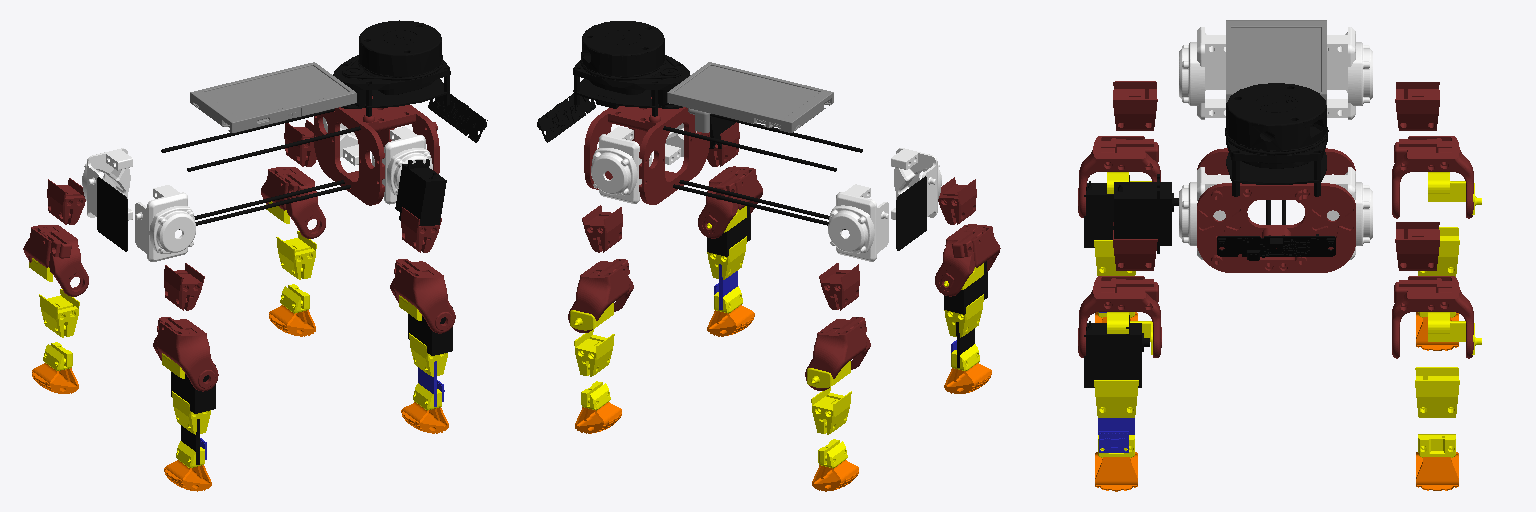
--- What the picture shows (computed from the rendered views, not written in the file) ---
The picture shows the robot from 3 angles, left to right: view 1: azimuth 30°, elevation 25°; view 2: azimuth 150°, elevation 25°; view 3: azimuth 270°, elevation 25°; orthographic projection.
Robot: spot — 36 links, 35 joints (12 revolute, 23 fixed); root link base_link; default pose: all joints at 0.
Links seen in each view (by area): view 1: rpi_lidar, m5paper, front_bracket, back_right_upper_leg, back_left_upper_leg, front_right_upper_leg, back_right_hip, front_left_upper_leg, cfr_core, front_right_upper_servo, back_left_lower_leg, front_left_lower_leg (+13 smaller); view 2: rpi_lidar, m5paper, front_bracket, back_right_upper_leg, back_left_upper_leg, front_left_upper_leg, back_left_hip, front_right_upper_leg, front_left_hip, back_left_lower_leg, front_left_lower_leg, cfr_core (+12 smaller); view 3: front_bracket, rpi_lidar, m5paper, back_left_upper_leg, front_left_upper_leg, back_right_upper_leg, front_right_upper_leg, front_left_lower_leg, front_right_upper_servo, back_right_hip, back_left_hip, front_right_foot_servo (+11 smaller).
Boxes of the visible links, x1=… form: rpi_lidar: x1=333, y1=20, x2=450, y2=116; m5paper: x1=190, y1=62, x2=356, y2=132; front_bracket: x1=314, y1=96, x2=439, y2=205; back_right_upper_leg: x1=153, y1=263, x2=218, y2=391; back_left_upper_leg: x1=23, y1=178, x2=88, y2=296; front_right_upper_leg: x1=390, y1=207, x2=455, y2=333; back_right_hip: x1=135, y1=185, x2=195, y2=261; front_left_upper_leg: x1=261, y1=120, x2=325, y2=238; cfr_core: x1=161, y1=109, x2=360, y2=229; front_right_upper_servo: x1=395, y1=159, x2=446, y2=225; back_left_lower_leg: x1=29, y1=258, x2=79, y2=370; front_left_lower_leg: x1=266, y1=201, x2=316, y2=313; rpi_lidar: x1=573, y1=21, x2=689, y2=116; m5paper: x1=667, y1=62, x2=833, y2=132; front_bracket: x1=584, y1=97, x2=709, y2=204; back_right_upper_leg: x1=935, y1=177, x2=1000, y2=296; back_left_upper_leg: x1=805, y1=263, x2=870, y2=390; front_left_upper_leg: x1=568, y1=205, x2=633, y2=332; back_left_hip: x1=828, y1=184, x2=888, y2=261; front_right_upper_leg: x1=698, y1=122, x2=762, y2=238; front_left_hip: x1=591, y1=126, x2=651, y2=203; back_left_lower_leg: x1=807, y1=361, x2=851, y2=468; front_left_lower_leg: x1=570, y1=303, x2=614, y2=410; cfr_core: x1=663, y1=114, x2=862, y2=229; front_bracket: x1=1197, y1=148, x2=1355, y2=272; rpi_lidar: x1=1225, y1=83, x2=1328, y2=196; m5paper: x1=1226, y1=20, x2=1326, y2=104; back_left_upper_leg: x1=1392, y1=82, x2=1473, y2=218; front_left_upper_leg: x1=1392, y1=222, x2=1473, y2=358; back_right_upper_leg: x1=1078, y1=81, x2=1160, y2=217; front_right_upper_leg: x1=1078, y1=222, x2=1161, y2=357; front_left_lower_leg: x1=1415, y1=312, x2=1481, y2=457; front_right_upper_servo: x1=1114, y1=174, x2=1178, y2=253; back_right_hip: x1=1179, y1=27, x2=1225, y2=119; back_left_hip: x1=1327, y1=27, x2=1372, y2=119; front_right_foot_servo: x1=1084, y1=315, x2=1149, y2=387.
Bounding box of the posed robot: 0.352 × 0.2785 × 0.3074 m (x, y, z).
Meshes: 25 distinct files referenced, 29 mesh visuals loaded (18 binary STL); not drawn: 7 (reference not matched to a file when rendering).

The robot description file, URDF, robot "spot":
<?xml version="1.0" encoding="utf-8"?>
<!-- =================================================================================== -->
<!-- |    This document was autogenerated by xacro from spot.urdf.xacro                | -->
<!-- |    EDITING THIS FILE BY HAND IS NOT RECOMMENDED                                 | -->
<!-- =================================================================================== -->
<robot name="spot" xmlns:xacro="http://www.ros.org/wiki/xacro">
  <material name="maroon">
    <color rgba="0.5 0.2 0.2 1"/>
  </material>
  <material name="lblue">
    <color rgba="0.1 0.1 0.8 0.9"/>
  </material>
  <material name="orange">
    <color rgba="1.0 0.5 0.0 1"/>
  </material>
  <material name="black">
    <color rgba="0.1 0.1 0.1 1"/>
  </material>
  <material name="grey">
    <color rgba="0.6 0.6 0.6 1"/>
  </material>
  <material name="white">
    <color rgba="1.0 1.0 1.0 1"/>
  </material>
  <material name="yellow">
    <color rgba="1.0 1.0 0.0 1"/>
  </material>
  <material name="cgray">
    <color rgba="0.6 0.6 0.6 0.5"/>
  </material>
  <material name="blue">
    <color rgba="0.2 0.2 0.8 1"/>
  </material>
  <material name="green">
    <color rgba="0.2 0.8 0.2 1"/>
  </material>
  <!-- Left Leg: prefix is front or rear -->
  <!--   <xacro:macro name="LeftLeg" params="prefix reflect">
    <link name="${prefix}_Left_Leg">
        <visual>
            <geometry>
                <box size="${leglen} 0.1 0.2"/>
            </geometry>
            <origin xyz="0 0 -${leglen/2}" rpy="0 ${pi/2} 0"/>
            <material name="white"/>
        </visual>
        <collision>
            <geometry>
                <box size="${leglen} 0.1 0.2"/>
            </geometry>
            <origin xyz="0 0 -${leglen/2}" rpy="0 ${pi/2} 0"/>
        </collision>
        <xacro:default_inertial mass="10"/>
    </link>

    <joint name="base_to_${prefix}_leg" type="fixed">
        <parent link="base_link"/>
        <child link="${prefix}_leg"/>
        <origin xyz="0 ${reflect*(width+.02)} 0.25" />
    </joint>
</xacro:macro> -->
  <!-- Robot description -->
  <!-- STATIC Links -->
  <link name="base_link">
    <visual>
      <origin rpy="0 0 1.57079632679" xyz="-0.16 0.035 -0.045"/>
      <geometry>
        <mesh filename="package://mini_ros/stl/OpenQuadruped/MAINBODY.stl" scale="1 1 1"/>
      </geometry>
      <material name="maroon"/>
    </visual>
    <collision>
      <origin rpy="0 0 1.57079632679" xyz="0 0 0"/>
      <geometry>
        <box size="0.114 0.2 0.1"/>
      </geometry>
    </collision>
    <inertial>
      <mass value="0.6"/>
      <origin rpy="0 0 0" xyz="0 0 0"/>
      <!-- Inertial Axes -->
      <inertia ixx="0.0025" ixy="0" ixz="0" iyx="0" iyy="0.0011498" iyz="0" izx="0" izy="0" izz="0.0026498"/>
    </inertial>
  </link>
  <!-- m to mm -->
  <link name="battery">
    <visual>
      <origin rpy="0 0 1.57079632679" xyz="-0.15 0.035 -0.022"/>
      <geometry>
        <mesh filename="package://mini_ros/stl/OpenQuadruped/Battery.stl" scale="1 1 1"/>
      </geometry>
      <material name="lblue"/>
    </visual>
    <collision>
      <origin rpy="0 0 1.57079632679" xyz="0 0 0"/>
      <geometry>
        <box size="0.048 0.145 0.026"/>
      </geometry>
    </collision>
    <inertial>
      <mass value="0.4"/>
      <origin rpy="0 0 0" xyz="0 0 0"/>
      <!-- Inertial Axes -->
      <inertia ixx="0.000723366666667" ixy="0" ixz="0" iyx="0" iyy="9.93333333333e-05" iyz="0" izx="0" izy="0" izz="0.000777633333333"/>
    </inertial>
  </link>

  
  <!-- m to mm -->
  <link name="cfr_core">
    <visual>
      <origin rpy="0 0 1.57079632679" xyz="-0.15 0.035 -0.022"/>
      <geometry>
        <mesh filename="package://mini_ros/stl/OpenQuadruped/cfr_core.stl" scale="1 1 1"/>
      </geometry>
      <material name="black"/>
    </visual>
    <collision>
      <origin rpy="0 0 1.57079632679" xyz="0 0 0"/>
      <geometry>
        <box size="0.048 0.145 0.026"/>
      </geometry>
    </collision>
    <inertial>
      <mass value="0.1"/>
      <origin rpy="0 0 0" xyz="0 0 0"/>
      <!-- Inertial Axes -->
      <inertia ixx="0.000723366666667" ixy="0" ixz="0" iyx="0" iyy="9.93333333333e-05" iyz="0" izx="0" izy="0" izz="0.000777633333333"/>
    </inertial>
  </link>
<!-- m to mm -->
  <link name="m5paper">
    <visual>
      <origin rpy="0 0 1.57079632679" xyz="-0.15 0.035 -0.022"/>
      <geometry>
        <mesh filename="package://mini_ros/stl/OpenQuadruped/m5paper.stl" scale="1 1 1"/>
      </geometry>
      <material name="grey"/>
    </visual>
    <collision>
      <origin rpy="0 0 1.57079632679" xyz="0 0 0"/>
      <geometry>
        <box size="0.048 0.145 0.026"/>
      </geometry>
    </collision>
    <inertial>
      <mass value="0.1"/>
      <origin rpy="0 0 0" xyz="0 0 0"/>
      <!-- Inertial Axes -->
      <inertia ixx="0.000723366666667" ixy="0" ixz="0" iyx="0" iyy="9.93333333333e-05" iyz="0" izx="0" izy="0" izz="0.000777633333333"/>
    </inertial>
  </link>
  <!-- m to mm -->
  <link name="rpi_lidar">
    <visual>
      <origin rpy="0 0 1.57079632679" xyz="-0.15 0.035 -0.022"/>
      <geometry>
        <mesh filename="package://mini_ros/stl/OpenQuadruped/lidar.stl" scale="1 1 1"/>
      </geometry>
      <material name="black"/>
    </visual>
    <collision>
      <origin rpy="0 0 1.57079632679" xyz="0 0 0"/>
      <geometry>
        <box size="0.048 0.145 0.026"/>
      </geometry>
    </collision>
    <inertial>
      <mass value="0.1"/>
      <origin rpy="0 0 0" xyz="0 0 0"/>
      <!-- Inertial Axes -->
      <inertia ixx="0.000723366666667" ixy="0" ixz="0" iyx="0" iyy="9.93333333333e-05" iyz="0" izx="0" izy="0" izz="0.000777633333333"/>
    </inertial>
  </link>

    <!-- m to mm -->
  <link name="rpi_5">
    <visual>
      <origin rpy="0 0 1.57079632679" xyz="-0.15 0.035 -0.022"/>
      <geometry>
        <mesh filename="package://mini_ros/stl/OpenQuadruped/RPI5.stl" scale="1 1 1"/>
      </geometry>
      <material name="green"/>
    </visual>
    <collision>
      <origin rpy="0 0 1.57079632679" xyz="0 0 0"/>
      <geometry>
        <box size="0.048 0.145 0.026"/>
      </geometry>
    </collision>
    <inertial>
      <mass value="0.1"/>
      <origin rpy="0 0 0" xyz="0 0 0"/>
      <!-- Inertial Axes -->
      <inertia ixx="0.000723366666667" ixy="0" ixz="0" iyx="0" iyy="9.93333333333e-05" iyz="0" izx="0" izy="0" izz="0.000777633333333"/>
    </inertial>
  </link>

    <!-- m to mm -->
  <link name="oak_d_lite">
    <visual>
      <origin rpy="0 0 1.57079632679" xyz="-0.15 0.035 -0.022"/>
      <geometry>
        <mesh filename="package://mini_ros/stl/OpenQuadruped/OAKD_LITE.stl" scale="1 1 1"/>
      </geometry>
      <material name="black"/>
    </visual>
    <collision>
      <origin rpy="0 0 1.57079632679" xyz="0 0 0"/>
      <geometry>
        <box size="0.048 0.145 0.026"/>
      </geometry>
    </collision>
    <inertial>
      <mass value="0.1"/>
      <origin rpy="0 0 0" xyz="0 0 0"/>
      <!-- Inertial Axes -->
      <inertia ixx="0.000723366666667" ixy="0" ixz="0" iyx="0" iyy="9.93333333333e-05" iyz="0" izx="0" izy="0" izz="0.000777633333333"/>
    </inertial>
  </link>

  <!-- m to mm -->
  <link name="chassis_left">
    <visual>
      <origin rpy="0 1.57079632679 -1.57079632679" xyz="0.016 0.003 0"/>
      <geometry>
        <mesh filename="package://mini_ros/stl/OpenQuadruped/Chassis_Left_Side.stl" scale="1 1 1"/>
      </geometry>
      <material name="cgray"/>
    </visual>
    <collision>
      <origin rpy="0 1.57079632679 -1.57079632679" xyz="0 0 0"/>
      <geometry>
        <box size="0.06 0.15 0.006"/>
      </geometry>
    </collision>
    <inertial>
      <mass value="0.01"/>
      <origin rpy="0 0 0" xyz="0 0 0"/>
      <!-- Inertial Axes -->
      <inertia ixx="1.878e-05" ixy="0" ixz="0" iyx="0" iyy="3.03e-06" iyz="0" izx="0" izy="0" izz="2.175e-05"/>
    </inertial>
  </link>
  <!-- m to mm -->
  <link name="chassis_right">
    <visual>
      <origin rpy="0 1.57079632679 1.57079632679" xyz="-0.016 -0.003 0"/>
      <geometry>
        <mesh filename="package://mini_ros/stl/OpenQuadruped/Chassis_Right_Side.stl" scale="1 1 1"/>
      </geometry>
      <material name="cgray"/>
    </visual>
    <collision>
      <origin rpy="0 1.57079632679 1.57079632679" xyz="0 0 0"/>
      <geometry>
        <box size="0.06 0.15 0.006"/>
      </geometry>
    </collision>
    <inertial>
      <mass value="0.01"/>
      <origin rpy="0 0 0" xyz="0 0 0"/>
      <!-- Inertial Axes -->
      <inertia ixx="1.878e-05" ixy="0" ixz="0" iyx="0" iyy="3.03e-06" iyz="0" izx="0" izy="0" izz="2.175e-05"/>
    </inertial>
  </link>
  <!-- m to mm -->
  <link name="front">
    <visual>
      <origin rpy="0 0 1.57079632679" xyz="-0.16 0.035 -0.045"/>
      <geometry>
        <mesh filename="package://mini_ros/stl/OpenQuadruped/Front.stl" scale="1 1 1"/>
      </geometry>
      <material name="maroon"/>
    </visual>
    <collision>
      <origin rpy="0 0 1.57079632679" xyz="0.16 0 0.006"/>
      <geometry>
        <box size="0.114 0.045 0.085"/>
      </geometry>
    </collision>
    <inertial>
      <mass value="0.1"/>
      <origin rpy="0 0 0" xyz="0 0 0"/>
      <!-- Inertial Axes -->
      <inertia ixx="7.70833333333e-05" ixy="0" ixz="0" iyx="0" iyy="0.000168508333333" iyz="0" izx="0" izy="0" izz="0.000125175"/>
    </inertial>
  </link>
  <!-- m to mm -->
  <link name="back">
    <visual>
      <origin rpy="0 0 1.57079632679" xyz="-0.16 0.035 -0.045"/>
      <geometry>
        <mesh filename="package://mini_ros/stl/OpenQuadruped/m5fire_black.stl" scale="1 1 1"/>
      </geometry>
      <material name="black"/>
    </visual>
    <collision>
      <origin rpy="0 0 1.57079632679" xyz="-0.16 0 0.006"/>
      <geometry>
        <box size="0.114 0.075 0.085"/>
      </geometry>
    </collision>
    <inertial>
      <mass value="0.1"/>
      <origin rpy="0 0 0" xyz="0 0 0"/>
      <!-- Inertial Axes -->
      <inertia ixx="0.000107083333333" ixy="0" ixz="0" iyx="0" iyy="0.000168508333333" iyz="0" izx="0" izy="0" izz="0.000155175"/>
    </inertial>
  </link>
  <!-- m to mm -->
  <link name="front_bracket">
    <visual>
      <origin rpy="0 0 1.57079632679" xyz="-0.16 0.035 -0.045"/>
      <geometry>
        <mesh filename="package://mini_ros/stl/OpenQuadruped/Front_Bracket.stl" scale="1 1 1"/>
      </geometry>
      <material name="maroon"/>
    </visual>
    <collision>
      <origin rpy="0 0 1.57079632679" xyz="0.1 0 0"/>
      <geometry>
        <box size="0.025 0.075 0.085"/>
      </geometry>
    </collision>
    <inertial>
      <mass value="0.1"/>
      <origin rpy="0 0 0" xyz="0 0 0"/>
      <!-- Inertial Axes -->
      <inertia ixx="0.000107083333333" ixy="0" ixz="0" iyx="0" iyy="6.54166666667e-05" iyz="0" izx="0" izy="0" izz="5.20833333333e-05"/>
    </inertial>
  </link>
  <!-- m to mm -->
  <link name="back_bracket">
    <visual>
      <origin rpy="0 0 1.57079632679" xyz="-0.16 0.035 -0.045"/>
      <geometry>
        <mesh filename="package://mini_ros/stl/OpenQuadruped/Back_Bracket.stl" scale="1 1 1"/>
      </geometry>
      <material name="maroon"/>
    </visual>
    <collision>
      <origin rpy="0 0 1.57079632679" xyz="-0.1 0 0"/>
      <geometry>
        <box size="0.025 0.075 0.085"/>
      </geometry>
    </collision>
    <inertial>
      <mass value="0.1"/>
      <origin rpy="0 0 0" xyz="0 0 0"/>
      <!-- Inertial Axes -->
      <inertia ixx="0.000107083333333" ixy="0" ixz="0" iyx="0" iyy="6.54166666667e-05" iyz="0" izx="0" izy="0" izz="5.20833333333e-05"/>
    </inertial>
  </link>
  <!-- m to mm -->
  <link name="front_left_hip">
    <visual>
      <origin rpy="0 0 1.57079632679" xyz="-0.25 -0.0044 -0.067"/>
      <geometry>
        <mesh filename="package://mini_ros/stl/OpenQuadruped/LEFT_HIP.stl" scale="1 1 1"/>
      </geometry>
      <material name="white"/>
    </visual>
    <collision>
      <origin rpy="0 0 1.57079632679" xyz="0.015 0.01 -0.01"/>
      <geometry>
        <box size="0.05 0.065 0.065"/>
      </geometry>
    </collision>
    <inertial>
      <mass value="0.2"/>
      <origin rpy="0 0 0" xyz="0 0 0"/>
      <!-- Inertial Axes -->
      <inertia ixx="0.000140833333333" ixy="0" ixz="0" iyx="0" iyy="0.000112083333333" iyz="0" izx="0" izy="0" izz="0.000112083333333"/>
    </inertial>
  </link>
  <joint name="motor_front_left_hip" type="revolute">
    <axis xyz="1 0 0"/>
    <origin rpy="0 0 0" xyz="0.0915 0.0394 0.022"/>
    <parent link="front_bracket"/>
    <child link="front_left_hip"/>
    <limit effort="1000.0" lower="-1.04" upper="1.04" velocity="0.7"/>
    <joint_properties damping="0.0" friction="0.0"/>
  </joint>
  <link name="front_left_upper_leg">
    <visual>
      <origin rpy="0 0 1.57079632679" xyz="-0.252 -0.05 -0.055"/>
      <geometry>
        <mesh filename="package://mini_ros/stl/OpenQuadruped/LEFT_UPPER_LEG.stl" scale="1 1 1"/>
      </geometry>
      <material name="maroon"/>
    </visual>
    <collision>
      <origin rpy="0 0 1.57079632679" xyz="0 0.02 -0.05"/>
      <geometry>
        <box size="0.035 0.035 0.11"/>
      </geometry>
    </collision>
    <inertial>
      <mass value="0.13"/>
      <origin rpy="0 0 0" xyz="0 0 0"/>
      <!-- Inertial Axes -->
      <inertia ixx="0.000144354166667" ixy="0" ixz="0" iyx="0" iyy="0.000144354166667" iyz="0" izx="0" izy="0" izz="2.65416666667e-05"/>
    </inertial>
  </link>
  <joint name="motor_front_left_upper_leg" type="revolute">
    <axis xyz="0 1 0"/>
    <origin rpy="0 0 0" xyz="0.0015 0.045 -0.0087"/>
    <parent link="front_left_hip"/>
    <child link="front_left_upper_leg"/>
    <limit effort="1000.0" lower="-1.57079632679" upper="2.59" velocity="0.7"/>
    <joint_properties damping="0.0" friction="0.0"/>
  </joint>
  <link name="front_left_lower_leg">
    <visual>
      <origin rpy="0 0 1.57079632679" xyz="-0.247 -0.068 0.0535"/>
      <geometry>
        <mesh filename="package://mini_ros/stl/OpenQuadruped/LEFT_LOWER_LEG.stl" scale="1 1 1"/>
      </geometry>
      <material name="yellow"/>
    </visual>
    <collision>
      <origin rpy="0 0 1.57079632679" xyz="0 0 -0.04"/>
      <geometry>
        <box size="0.035 0.035 0.10"/>
      </geometry>
    </collision>
    <inertial>
      <mass value="0.05"/>
      <origin rpy="0 0 0" xyz="0 0 0"/>
      <!-- Inertial Axes -->
      <inertia ixx="6.51041666667e-05" ixy="0" ixz="0" iyx="0" iyy="6.51041666667e-05" iyz="0" izx="0" izy="0" izz="1.02083333333e-05"/>
    </inertial>
  </link>
  <joint name="motor_front_left_lower_leg" type="revolute">
    <axis xyz="0 1 0"/>
    <origin rpy="0 0 0" xyz="-0.005 0.018 -0.109"/>
    <parent link="front_left_upper_leg"/>
    <child link="front_left_lower_leg"/>
    <limit effort="1000.0" lower="-2.9" upper="1.57079632679" velocity="0.7"/>
    <joint_properties damping="0.0" friction="0.0"/>
  </joint>
  <link name="front_left_foot">
    <visual>
      <origin rpy="0 0 1.57079632679" xyz="-0.247 -0.068 0.18"/>
      <geometry>
        <mesh filename="package://mini_ros/stl/OpenQuadruped/LEFT_FOOT.stl" scale="1 1 1"/>
      </geometry>
      <material name="orange"/>
    </visual>
    <collision>
      <origin rpy="0 0 1.57079632679" xyz="-0.247 -0.068 0.18"/>
      <geometry>
        <mesh filename="package://mini_ros/stl/OpenQuadruped/LEFT_FOOT.stl" scale="1 1 1"/>
      </geometry>
      <contact_coefficients mu="10.1"/>
    </collision>
    <inertial>
      <mass value="0.005"/>
      <origin rpy="0 0 0" xyz="0 0 0"/>
      <!-- Inertial Axes -->
      <inertia ixx="3.52083333333e-06" ixy="0" ixz="0" iyx="0" iyy="2.80208333333e-06" iyz="0" izx="0" izy="0" izz="2.80208333333e-06"/>
    </inertial>
  </link>
  <joint name="front_left_leg_foot" type="fixed">
    <origin rpy="0 0 0" xyz="0 0 -0.1265"/>
    <parent link="front_left_lower_leg"/>
    <child link="front_left_foot"/>
  </joint>
  <link name="back_left_hip">
    <visual>
      <origin rpy="0 0 1.57079632679" xyz="-0.25 -0.0044 -0.067"/>
      <geometry>
        <mesh filename="package://mini_ros/stl/OpenQuadruped/LEFT_HIP.stl" scale="1 1 1"/>
      </geometry>
      <material name="white"/>
    </visual>
    <collision>
      <origin rpy="0 0 1.57079632679" xyz="0.015 0.01 -0.01"/>
      <geometry>
        <box size="0.05 0.065 0.065"/>
      </geometry>
    </collision>
    <inertial>
      <mass value="0.2"/>
      <origin rpy="0 0 0" xyz="0 0 0"/>
      <!-- Inertial Axes -->
      <inertia ixx="0.000140833333333" ixy="0" ixz="0" iyx="0" iyy="0.000112083333333" iyz="0" izx="0" izy="0" izz="0.000112083333333"/>
    </inertial>
  </link>
  <joint name="motor_back_left_hip" type="revolute">
    <axis xyz="1 0 0"/>
    <origin rpy="0 0 0" xyz="-0.1365 0.0394 0.022"/>
    <parent link="back_bracket"/>
    <child link="back_left_hip"/>
    <limit effort="1000.0" lower="-1.04" upper="1.04" velocity="0.7"/>
    <joint_properties damping="0.0" friction="0.0"/>
  </joint>
  <link name="back_left_upper_leg">
    <visual>
      <origin rpy="0 0 1.57079632679" xyz="-0.252 -0.05 -0.055"/>
      <geometry>
        <mesh filename="package://mini_ros/stl/OpenQuadruped/LEFT_UPPER_LEG.stl" scale="1 1 1"/>
      </geometry>
      <material name="maroon"/>
    </visual>
    <collision>
      <origin rpy="0 0 1.57079632679" xyz="0 0.02 -0.05"/>
      <geometry>
        <box size="0.035 0.035 0.11"/>
      </geometry>
    </collision>
    <inertial>
      <mass value="0.13"/>
      <origin rpy="0 0 0" xyz="0 0 0"/>
      <!-- Inertial Axes -->
      <inertia ixx="0.000144354166667" ixy="0" ixz="0" iyx="0" iyy="0.000144354166667" iyz="0" izx="0" izy="0" izz="2.65416666667e-05"/>
    </inertial>
  </link>
  <joint name="motor_back_left_upper_leg" type="revolute">
    <axis xyz="0 1 0"/>
    <origin rpy="0 0 0" xyz="0.0015 0.045 -0.0087"/>
    <parent link="back_left_hip"/>
    <child link="back_left_upper_leg"/>
    <limit effort="1000.0" lower="-1.57079632679" upper="2.59" velocity="0.7"/>
    <joint_properties damping="0.0" friction="0.0"/>
  </joint>
  <link name="back_left_lower_leg">
    <visual>
      <origin rpy="0 0 1.57079632679" xyz="-0.247 -0.068 0.0535"/>
      <geometry>
        <mesh filename="package://mini_ros/stl/OpenQuadruped/LEFT_LOWER_LEG.stl" scale="1 1 1"/>
      </geometry>
      <material name="yellow"/>
    </visual>
    <collision>
      <origin rpy="0 0 1.57079632679" xyz="0 0 -0.04"/>
      <geometry>
        <box size="0.035 0.035 0.10"/>
      </geometry>
    </collision>
    <inertial>
      <mass value="0.05"/>
      <origin rpy="0 0 0" xyz="0 0 0"/>
      <!-- Inertial Axes -->
      <inertia ixx="6.51041666667e-05" ixy="0" ixz="0" iyx="0" iyy="6.51041666667e-05" iyz="0" izx="0" izy="0" izz="1.02083333333e-05"/>
    </inertial>
  </link>
  <joint name="motor_back_left_lower_leg" type="revolute">
    <axis xyz="0 1 0"/>
    <origin rpy="0 0 0" xyz="-0.005 0.018 -0.109"/>
    <parent link="back_left_upper_leg"/>
    <child link="back_left_lower_leg"/>
    <limit effort="1000.0" lower="-2.9" upper="1.57079632679" velocity="0.7"/>
    <joint_properties damping="0.0" friction="0.0"/>
  </joint>
  <link name="back_left_foot">
    <visual>
      <origin rpy="0 0 1.57079632679" xyz="-0.247 -0.068 0.18"/>
      <geometry>
        <mesh filename="package://mini_ros/stl/OpenQuadruped/LEFT_FOOT.stl" scale="1 1 1"/>
      </geometry>
      <material name="orange"/>
    </visual>
    <collision>
      <origin rpy="0 0 1.57079632679" xyz="-0.247 -0.068 0.18"/>
      <geometry>
        <mesh filename="package://mini_ros/stl/OpenQuadruped/LEFT_FOOT.stl" scale="1 1 1"/>
      </geometry>
      <contact_coefficients mu="10.1"/>
    </collision>
    <inertial>
      <mass value="0.005"/>
      <origin rpy="0 0 0" xyz="0 0 0"/>
      <!-- Inertial Axes -->
      <inertia ixx="3.52083333333e-06" ixy="0" ixz="0" iyx="0" iyy="2.80208333333e-06" iyz="0" izx="0" izy="0" izz="2.80208333333e-06"/>
    </inertial>
  </link>
  <joint name="back_left_leg_foot" type="fixed">
    <origin rpy="0 0 0" xyz="0 0 -0.1265"/>
    <parent link="back_left_lower_leg"/>
    <child link="back_left_foot"/>
  </joint>
  <link name="front_right_hip">
    <visual>
      <origin rpy="0 0 1.57079632679" xyz="-0.25 0.074 -0.067"/>
      <geometry>
        <mesh filename="package://mini_ros/stl/OpenQuadruped/RIGHT_HIP.stl" scale="1 1 1"/>
      </geometry>
      <material name="white"/>
    </visual>
    <collision>
      <origin rpy="0 0 1.57079632679" xyz="0.015 -0.01 -0.01"/>
      <geometry>
        <box size="0.05 0.065 0.065"/>
      </geometry>
    </collision>
    <inertial>
      <mass value="0.2"/>
      <origin rpy="0 0 0" xyz="0 0 0"/>
      <!-- Inertial Axes -->
      <inertia ixx="0.000140833333333" ixy="0" ixz="0" iyx="0" iyy="0.000112083333333" iyz="0" izx="0" izy="0" izz="0.000112083333333"/>
    </inertial>
  </link>
  <joint name="motor_front_right_hip" type="revolute">
    <axis xyz="1 0 0"/>
    <origin rpy="0 0 0" xyz="0.0915 -0.0394 0.022"/>
    <parent link="front_bracket"/>
    <child link="front_right_hip"/>
    <limit effort="1000.0" lower="-1.04" upper="1.04" velocity="0.7"/>
    <joint_properties damping="0.0" friction="0.0"/>
  </joint>
  <link name="front_right_upper_leg">
    <visual>
      <origin rpy="0 0 1.57079632679" xyz="-0.252 0.12 -0.055"/>
      <geometry>
        <mesh filename="package://mini_ros/stl/OpenQuadruped/RIGHT_UPPER_LEG.stl" scale="1 1 1"/>
      </geometry>
      <material name="maroon"/>
    </visual>
    <collision>
      <origin rpy="0 0 1.57079632679" xyz="0 -0.02 -0.05"/>
      <geometry>
        <box size="0.035 0.035 0.11"/>
      </geometry>
    </collision>
    <inertial>
      <mass value="0.13"/>
      <origin rpy="0 0 0" xyz="0 0 0"/>
      <!-- Inertial Axes -->
      <inertia ixx="0.000144354166667" ixy="0" ixz="0" iyx="0" iyy="0.000144354166667" iyz="0" izx="0" izy="0" izz="2.65416666667e-05"/>
    </inertial>
  </link>
  <joint name="motor_front_right_upper_leg" type="revolute">
    <axis xyz="0 1 0"/>
    <origin rpy="0 0 0" xyz="0.0015 -0.045 -0.0087"/>
    <parent link="front_right_hip"/>
    <child link="front_right_upper_leg"/>
    <limit effort="1000.0" lower="-1.57079632679" upper="2.59" velocity="0.7"/>
    <joint_properties damping="0.0" friction="0.0"/>
  </joint>
  <link name="front_right_lower_leg">
    <visual>
      <origin rpy="0 0 1.57079632679" xyz="-0.247 0.138 0.0535"/>
      <geometry>
        <mesh filename="package://mini_ros/stl/OpenQuadruped/RIGHT_LOWER_LEG.stl" scale="1 1 1"/>
      </geometry>
      <material name="yellow"/>
    </visual>
    <collision>
      <origin rpy="0 0 1.57079632679" xyz="0 0 -0.04"/>
      <geometry>
        <box size="0.035 0.035 0.10"/>
      </geometry>
    </collision>
    <inertial>
      <mass value="0.05"/>
      <origin rpy="0 0 0" xyz="0 0 0"/>
      <!-- Inertial Axes -->
      <inertia ixx="6.51041666667e-05" ixy="0" ixz="0" iyx="0" iyy="6.51041666667e-05" iyz="0" izx="0" izy="0" izz="1.02083333333e-05"/>
    </inertial>
  </link>
  <joint name="motor_front_right_lower_leg" type="revolute">
    <axis xyz="0 1 0"/>
    <origin rpy="0 0 0" xyz="-0.005 -0.018 -0.109"/>
    <parent link="front_right_upper_leg"/>
    <child link="front_right_lower_leg"/>
    <limit effort="1000.0" lower="-2.9" upper="1.57079632679" velocity="0.7"/>
    <joint_properties damping="0.0" friction="0.0"/>
  </joint>
  <link name="front_right_foot">
    <visual>
      <origin rpy="0 0 1.57079632679" xyz="-0.247 0.138 0.18"/>
      <geometry>
        <mesh filename="package://mini_ros/stl/OpenQuadruped/RIGHT_FOOT.stl" scale="1 1 1"/>
      </geometry>
      <material name="orange"/>
    </visual>
    <collision>
      <origin rpy="0 0 1.57079632679" xyz="-0.247 0.138 0.18"/>
      <geometry>
        <mesh filename="package://mini_ros/stl/OpenQuadruped/RIGHT_FOOT.stl" scale="1 1 1"/>
      </geometry>
      <contact_coefficients mu="10.1"/>
    </collision>
    <inertial>
      <mass value="0.005"/>
      <origin rpy="0 0 0" xyz="0 0 0"/>
      <!-- Inertial Axes -->
      <inertia ixx="3.52083333333e-06" ixy="0" ixz="0" iyx="0" iyy="2.80208333333e-06" iyz="0" izx="0" izy="0" izz="2.80208333333e-06"/>
    </inertial>
  </link>
  <link name="front_right_foot_IMU">
    <visual>
      <origin rpy="0 0 1.57079632679" xyz="-0.247 0.138 0.18"/>
      <geometry>
        <mesh filename="package://mini_ros/stl/OpenQuadruped/RIGHT_FOOT_IMU.stl" scale="1 1 1"/>
      </geometry>
      <material name="blue"/>
    </visual>
    <inertial>
      <mass value="0.005"/>
      <origin rpy="0 0 0" xyz="0 0 0"/>
      <!-- Inertial Axes -->
      <inertia ixx="3.52083333333e-06" ixy="0" ixz="0" iyx="0" iyy="2.80208333333e-06" iyz="0" izx="0" izy="0" izz="2.80208333333e-06"/>
    </inertial>
  </link>
  <link name="front_right_foot_CFP">
    <visual>
      <origin rpy="0 0 1.57079632679" xyz="-0.247 0.138 0.18"/>
      <geometry>
        <mesh filename="package://mini_ros/stl/OpenQuadruped/RIGHT_FOOT_CFP.stl" scale="1 1 1"/>
      </geometry>
      <material name="blue"/>
    </visual>
    <inertial>
      <mass value="0.005"/>
      <origin rpy="0 0 0" xyz="0 0 0"/>
      <!-- Inertial Axes -->
      <inertia ixx="3.52083333333e-06" ixy="0" ixz="0" iyx="0" iyy="2.80208333333e-06" iyz="0" izx="0" izy="0" izz="2.80208333333e-06"/>
    </inertial>
  </link>
  
  <link name="front_right_foot_servo">
    <visual>
      <origin rpy="0 0 1.57079632679" xyz="-0.247 0.138 0.18"/>
      <geometry>
        <mesh filename="package://mini_ros/stl/OpenQuadruped/RIGHT_LOWER_SERVO.stl" scale="1 1 1"/>
      </geometry>
      <material name="black"/>
    </visual>
    <inertial>
      <mass value="0.005"/>
      <origin rpy="0 0 0" xyz="0 0 0"/>
      <!-- Inertial Axes -->
      <inertia ixx="3.52083333333e-06" ixy="0" ixz="0" iyx="0" iyy="2.80208333333e-06" iyz="0" izx="0" izy="0" izz="2.80208333333e-06"/>
    </inertial>
  </link>
  
  <link name="front_right_upper_servo">
    <visual>
      <origin rpy="0 0 1.57079632679" xyz="-0.247 0.138 0.18"/>
      <geometry>
        <mesh filename="package://mini_ros/stl/OpenQuadruped/RIGHT_UPPER_SERVO.stl" scale="1 1 1"/>
      </geometry>
      <material name="black"/>
    </visual>
    <inertial>
      <mass value="0.005"/>
      <origin rpy="0 0 0" xyz="0 0 0"/>
      
      <inertia ixx="3.52083333333e-06" ixy="0" ixz="0" iyx="0" iyy="2.80208333333e-06" iyz="0" izx="0" izy="0" izz="2.80208333333e-06"/>
    </inertial>
  </link>
  
  <joint name="front_right_leg_foot" type="fixed">
    <origin rpy="0 0 0" xyz="0 0 -0.1265"/>
    <parent link="front_right_lower_leg"/>
    <child link="front_right_foot"/>
  </joint>

  <joint name="front_right_leg_foot_IMU" type="fixed">
    <origin rpy="0 0 0" xyz="0 0 -0.1265"/>
    <parent link="front_right_lower_leg"/>
    <child link="front_right_foot_IMU"/>
  </joint>

  <joint name="front_right_leg_foot_CFP" type="fixed">
    <origin rpy="0 0 0" xyz="0 0 -0.1265"/>
    <parent link="front_right_lower_leg"/>
    <child link="front_right_foot_CFP"/>
  </joint>

  <joint name="front_right_leg_foot_servo" type="fixed">
    <origin rpy="0 0 0" xyz="0 0 -0.1265"/>
    <parent link="front_right_lower_leg"/>
    <child link="front_right_foot_servo"/>
  </joint>
  
  <joint name="front_right_leg_upper_servo" type="fixed">
    <origin rpy="0 0 0" xyz="-0.005 -0.01 -0.235"/>
    <parent link="front_right_upper_leg"/>
    <child link="front_right_upper_servo"/>
  </joint>

  <link name="back_right_hip">
    <visual>
      <origin rpy="0 0 1.57079632679" xyz="-0.25 0.074 -0.067"/>
      <geometry>
        <mesh filename="package://mini_ros/stl/OpenQuadruped/RIGHT_HIP.stl" scale="1 1 1"/>
      </geometry>
      <material name="white"/>
    </visual>
    <collision>
      <origin rpy="0 0 1.57079632679" xyz="0.015 -0.01 -0.01"/>
      <geometry>
        <box size="0.05 0.065 0.065"/>
      </geometry>
    </collision>
    <inertial>
      <mass value="0.2"/>
      <origin rpy="0 0 0" xyz="0 0 0"/>
      <!-- Inertial Axes -->
      <inertia ixx="0.000140833333333" ixy="0" ixz="0" iyx="0" iyy="0.000112083333333" iyz="0" izx="0" izy="0" izz="0.000112083333333"/>
    </inertial>
  </link>
  <joint name="motor_back_right_hip" type="revolute">
    <axis xyz="1 0 0"/>
    <origin rpy="0 0 0" xyz="-0.1365 -0.0394 0.022"/>
    <parent link="back_bracket"/>
    <child link="back_right_hip"/>
    <limit effort="1000.0" lower="-1.04" upper="1.04" velocity="0.7"/>
    <joint_properties damping="0.0" friction="0.0"/>
  </joint>
  <link name="back_right_upper_leg">
    <visual>
      <origin rpy="0 0 1.57079632679" xyz="-0.252 0.12 -0.055"/>
      <geometry>
        <mesh filename="package://mini_ros/stl/OpenQuadruped/RIGHT_UPPER_LEG.stl" scale="1 1 1"/>
      </geometry>
      <material name="maroon"/>
    </visual>
    <collision>
      <origin rpy="0 0 1.57079632679" xyz="0 -0.02 -0.05"/>
      <geometry>
        <box size="0.035 0.035 0.11"/>
      </geometry>
    </collision>
    <inertial>
      <mass value="0.13"/>
      <origin rpy="0 0 0" xyz="0 0 0"/>
      <!-- Inertial Axes -->
      <inertia ixx="0.000144354166667" ixy="0" ixz="0" iyx="0" iyy="0.000144354166667" iyz="0" izx="0" izy="0" izz="2.65416666667e-05"/>
    </inertial>
  </link>
  <joint name="motor_back_right_upper_leg" type="revolute">
    <axis xyz="0 1 0"/>
    <origin rpy="0 0 0" xyz="0.0015 -0.045 -0.0087"/>
    <parent link="back_right_hip"/>
    <child link="back_right_upper_leg"/>
    <limit effort="1000.0" lower="-1.57079632679" upper="2.59" velocity="0.7"/>
    <joint_properties damping="0.0" friction="0.0"/>
  </joint>
  <link name="back_right_lower_leg">
    <visual>
      <origin rpy="0 0 1.57079632679" xyz="-0.247 0.138 0.0535"/>
      <geometry>
        <mesh filename="package://mini_ros/stl/OpenQuadruped/RIGHT_LOWER_LEG.stl" scale="1 1 1"/>
      </geometry>
      <material name="yellow"/>
    </visual>
    <collision>
      <origin rpy="0 0 1.57079632679" xyz="0 0 -0.04"/>
      <geometry>
        <box size="0.035 0.035 0.10"/>
      </geometry>
    </collision>
    <inertial>
      <mass value="0.05"/>
      <origin rpy="0 0 0" xyz="0 0 0"/>
      <!-- Inertial Axes -->
      <inertia ixx="6.51041666667e-05" ixy="0" ixz="0" iyx="0" iyy="6.51041666667e-05" iyz="0" izx="0" izy="0" izz="1.02083333333e-05"/>
    </inertial>
  </link>
  <joint name="motor_back_right_lower_leg" type="revolute">
    <axis xyz="0 1 0"/>
    <origin rpy="0 0 0" xyz="-0.005 -0.018 -0.109"/>
    <parent link="back_right_upper_leg"/>
    <child link="back_right_lower_leg"/>
    <limit effort="1000.0" lower="-2.9" upper="1.57079632679" velocity="0.7"/>
    <joint_properties damping="0.0" friction="0.0"/>
  </joint>
  <link name="back_right_foot">
    <visual>
      <origin rpy="0 0 1.57079632679" xyz="-0.247 0.138 0.18"/>
      <geometry>
        <mesh filename="package://mini_ros/stl/OpenQuadruped/RIGHT_FOOT.stl" scale="1 1 1"/>
      </geometry>
      <material name="orange"/>
    </visual>
    <collision>
      <origin rpy="0 0 1.57079632679" xyz="-0.247 0.138 0.18"/>
      <geometry>
        <mesh filename="package://mini_ros/stl/OpenQuadruped/RIGHT_FOOT.stl" scale="1 1 1"/>
      </geometry>
      <contact_coefficients mu="10.1"/>
    </collision>
    <inertial>
      <mass value="0.005"/>
      <origin rpy="0 0 0" xyz="0 0 0"/>
      <!-- Inertial Axes -->
      <inertia ixx="3.52083333333e-06" ixy="0" ixz="0" iyx="0" iyy="2.80208333333e-06" iyz="0" izx="0" izy="0" izz="2.80208333333e-06"/>
    </inertial>
  </link>
  <link name="back_right_foot_IMU">
    <visual>
      <origin rpy="0 0 1.57079632679" xyz="-0.247 0.138 0.18"/>
      <geometry>
        <mesh filename="package://mini_ros/stl/OpenQuadruped/RIGHT_FOOT_IMU.stl" scale="1 1 1"/>
      </geometry>
      <material name="blue"/>
    </visual>
    <inertial>
      <mass value="0.005"/>
      <origin rpy="0 0 0" xyz="0 0 0"/>
      <!-- Inertial Axes -->
      <inertia ixx="3.52083333333e-06" ixy="0" ixz="0" iyx="0" iyy="2.80208333333e-06" iyz="0" izx="0" izy="0" izz="2.80208333333e-06"/>
    </inertial>
  </link>
  <link name="back_right_foot_CFP">
    <visual>
      <origin rpy="0 0 1.57079632679" xyz="-0.247 0.138 0.18"/>
      <geometry>
        <mesh filename="package://mini_ros/stl/OpenQuadruped/RIGHT_FOOT_CFP.stl" scale="1 1 1"/>
      </geometry>
      <material name="black"/>
    </visual>
    <inertial>
      <mass value="0.005"/>
      <origin rpy="0 0 0" xyz="0 0 0"/>
      <!-- Inertial Axes -->
      <inertia ixx="3.52083333333e-06" ixy="0" ixz="0" iyx="0" iyy="2.80208333333e-06" iyz="0" izx="0" izy="0" izz="2.80208333333e-06"/>
    </inertial>
  </link>
  <link name="back_right_foot_servo">
    <visual>
      <origin rpy="0 0 1.57079632679" xyz="-0.247 0.138 0.18"/>
      <geometry>
        <mesh filename="package://mini_ros/stl/OpenQuadruped/RIGHT_LOWER_SERVO.stl" scale="1 1 1"/>
      </geometry>
      <material name="black"/>
    </visual>
    <inertial>
      <mass value="0.005"/>
      <origin rpy="0 0 0" xyz="0 0 0"/>
      <!-- Inertial Axes -->
      <inertia ixx="3.52083333333e-06" ixy="0" ixz="0" iyx="0" iyy="2.80208333333e-06" iyz="0" izx="0" izy="0" izz="2.80208333333e-06"/>
    </inertial>
  </link>
    <joint name="back_right_leg_foot" type="fixed">
    <origin rpy="0 0 0" xyz="0 0 -0.1265"/>
    <parent link="back_right_lower_leg"/>
    <child link="back_right_foot"/>
  </joint>
  <joint name="back_right_leg_foot_IMU" type="fixed">
    <origin rpy="0 0 0" xyz="0 0 -0.1265"/>
    <parent link="back_right_lower_leg"/>
    <child link="back_right_foot_IMU"/>
  </joint>
  <joint name="back_right_leg_foot_CFP" type="fixed">
    <origin rpy="0 0 0" xyz="0 0 -0.1265"/>
    <parent link="back_right_lower_leg"/>
    <child link="back_right_foot_CFP"/>
  </joint>
  <joint name="back_right_leg_foot_servo" type="fixed">
    <origin rpy="0 0 0" xyz="0 0 -0.1265"/>
    <parent link="back_right_lower_leg"/>
    <child link="back_right_foot_servo"/>
  </joint>
  <joint name="base_battery" type="fixed">
    <origin rpy="0 0 0" xyz="-0.01 0 -0.0225"/>
    <parent link="base_link"/>
    <child link="battery"/>
  </joint>

  <joint name="base_cfr_core" type="fixed">
    <origin rpy="0 0 0" xyz="-0.01 0 -0.0225"/>
    <parent link="base_link"/>
    <child link="cfr_core"/>
  </joint>
  <joint name="base_m5paper" type="fixed">
    <origin rpy="0 0 0" xyz="-0.01 0 -0.0225"/>
    <parent link="base_link"/>
    <child link="m5paper"/>
  </joint>
  <joint name="base_rpi_lidar" type="fixed">
    <origin rpy="0 0 0" xyz="-0.01 0 -0.0225"/>
    <parent link="base_link"/>
    <child link="rpi_lidar"/>
  </joint>
  <joint name="base_rpi_5" type="fixed">
    <origin rpy="0 0 0" xyz="-0.01 0 -0.0225"/>
    <parent link="base_link"/>
    <child link="rpi_5"/>
  </joint>
  <joint name="base_oakd_lite" type="fixed">
    <origin rpy="0 0 0" xyz="-0.01 0 -0.0225"/>
    <parent link="base_link"/>
    <child link="oak_d_lite"/>
  </joint>

  <joint name="base_left" type="fixed">
    <origin rpy="0 0 0" xyz="0.00 0.052 0"/>
    <parent link="base_link"/>
    <child link="chassis_left"/>
  </joint>
  <joint name="base_right" type="fixed">
    <origin rpy="0 0 0" xyz="0.00 -0.052 0"/>
    <parent link="base_link"/>
    <child link="chassis_right"/>
  </joint>
  <joint name="base_front" type="fixed">
    <origin rpy="0 0 0" xyz="0 0 0"/>
    <parent link="base_link"/>
    <child link="front"/>
  </joint>
  <joint name="base_back" type="fixed">
    <origin rpy="0 0 0" xyz="0 0 0"/>
    <parent link="base_link"/>
    <child link="back"/>
  </joint>
  <joint name="base_front_bracket" type="fixed">
    <origin rpy="0 0 0" xyz="0 0 0"/>
    <parent link="base_link"/>
    <child link="front_bracket"/>
  </joint>
  <joint name="base_back_bracket" type="fixed">
    <origin rpy="0 0 0" xyz="0 0 0"/>
    <parent link="base_link"/>
    <child link="back_bracket"/>
  </joint>
</robot>
